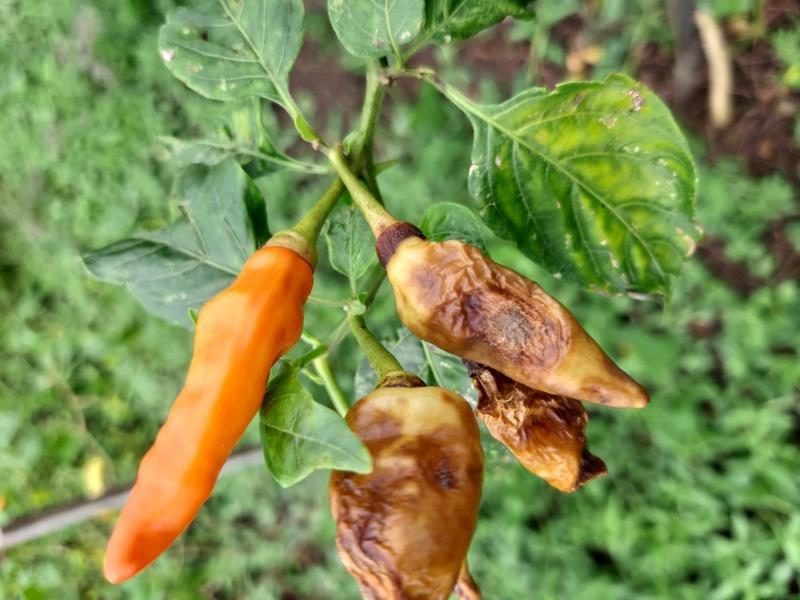antraknosa: (392, 238, 644, 408), (324, 368, 486, 600), (468, 350, 607, 488)
cabai_normal: (100, 248, 312, 587)
